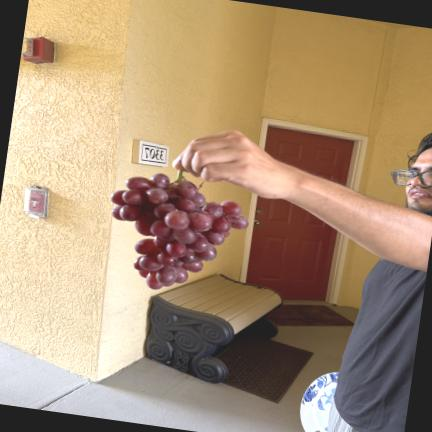grape_cluster: (110, 170, 248, 289)
